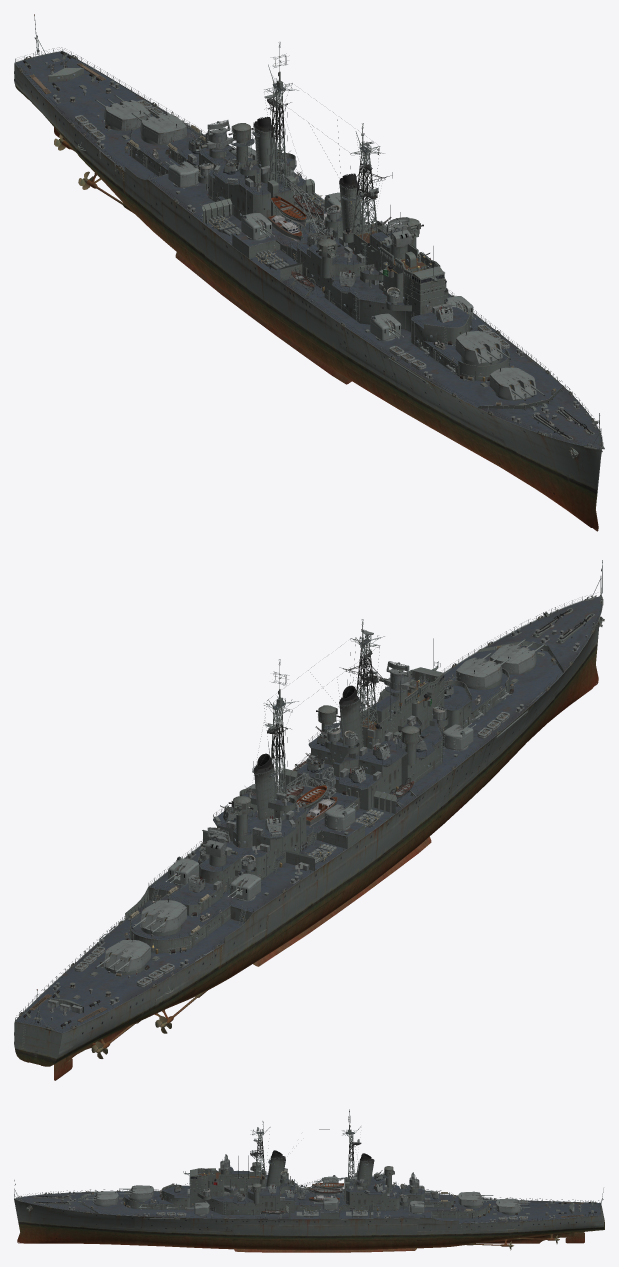
The model's file is neptune_world_of_warships.glb.
The picture shows the model from 3 angles, top to bottom: view 1: azimuth 30°, elevation 25°; view 2: azimuth 150°, elevation 25°; view 3: azimuth 270°, elevation 25°; orthographic projection. The views are drawn at different scales.
Parts seen in each view (by area): view 1: Object_90, Object_88, Object_87, Object_9, Object_85, Object_91, Object_48, Object_30, Object_89, Object_28, Object_86, Object_47 (+4 smaller); view 2: Object_88, Object_90, Object_9, Object_87, Object_85, Object_91, Object_89, Object_30, Object_28, Object_48, Object_47, Object_86 (+6 smaller); view 3: Object_90, Object_88, Object_87, Object_9, Object_91, Object_85, Object_89, Object_47, Object_30, Object_28, Object_86, Object_32 (+6 smaller).
Part boxes in pixels (box(x1,y1,x2,y2)): Object_90: box(280, 123, 542, 447); Object_88: box(99, 42, 364, 335); Object_87: box(436, 362, 603, 531); Object_9: box(14, 15, 168, 163); Object_85: box(131, 108, 544, 400); Object_91: box(261, 143, 367, 355); Object_48: box(165, 160, 475, 341); Object_30: box(281, 141, 535, 388); Object_89: box(82, 83, 292, 204); Object_28: box(102, 74, 311, 256); Object_86: box(95, 95, 150, 130); Object_47: box(230, 145, 341, 240); Object_88: box(99, 659, 378, 999); Object_90: box(280, 619, 542, 873); Object_9: box(14, 956, 173, 1080); Object_87: box(444, 562, 603, 757); Object_85: box(131, 639, 544, 933); Object_91: box(279, 635, 410, 894); Object_89: box(83, 697, 294, 1026); Object_30: box(292, 625, 535, 812); Object_28: box(102, 696, 349, 960); Object_48: box(227, 723, 475, 901); Object_47: box(165, 784, 357, 885); Object_86: box(95, 938, 150, 972); Object_90: box(123, 1121, 298, 1252); Object_88: box(307, 1109, 489, 1252); Object_87: box(14, 1180, 134, 1245); Object_9: box(502, 1189, 604, 1243); Object_91: box(253, 1129, 347, 1252); Object_85: box(83, 1185, 493, 1205); Object_89: box(343, 1130, 509, 1246); Object_47: box(314, 1175, 433, 1214); Object_30: box(123, 1124, 297, 1218); Object_28: box(304, 1129, 489, 1227); Object_86: box(496, 1198, 530, 1212); Object_32: box(295, 1177, 347, 1199).
Bounding box in the file's own units: 1.6 × 3.36 × 13.43.
Materials: 83 (83 with a texture image).
